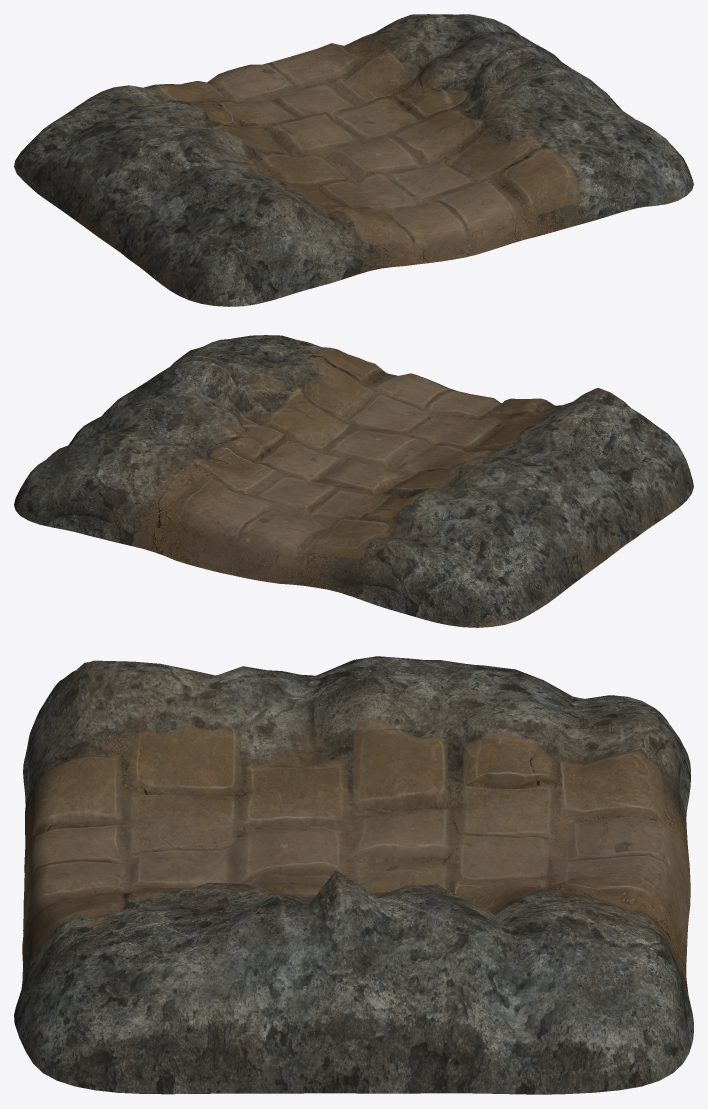
The model's file is cave_ravine_floor_02_straight.dae.
3 renders of one model, top to bottom at view 1: azimuth 30°, elevation 25°; view 2: azimuth 150°, elevation 25°; view 3: azimuth 270°, elevation 25°, orthographic. The views are drawn at different scales.
Parts seen in each view (by area): view 1: floor_2; view 2: floor_2; view 3: floor_2.
Boxes of the visible parts, bbox=[...] form: floor_2: bbox=[14, 14, 693, 306]; floor_2: bbox=[14, 335, 693, 627]; floor_2: bbox=[14, 656, 693, 1094].
Size of what is drawn, in the model's own units: 1.77 by 0.318 by 1.35.
